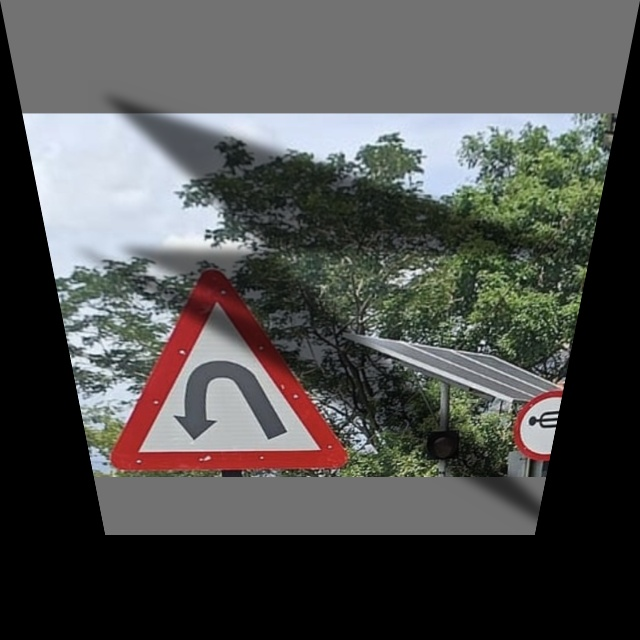Left_Hair_Pin_Bend: (78, 269, 359, 469)
